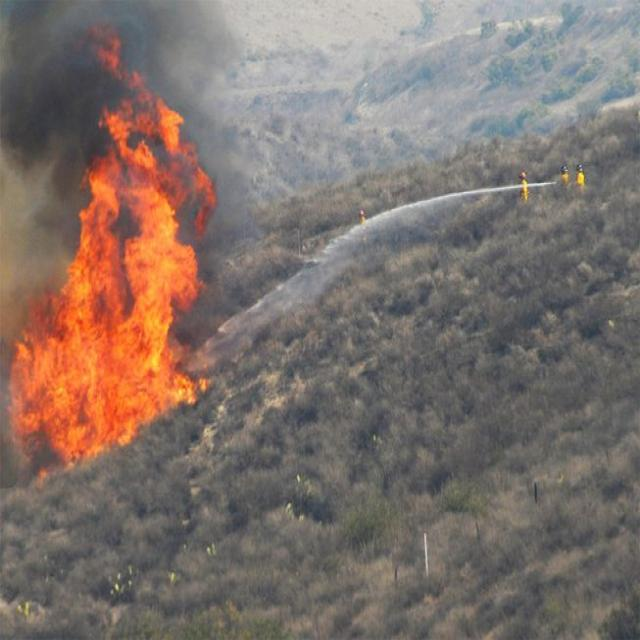Fire: (4, 20, 216, 486)
Smoke: (0, 0, 263, 487)
